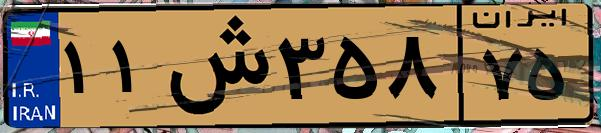1: (57, 26, 110, 100), (110, 28, 158, 98)
3: (270, 28, 330, 110)
5: (330, 28, 385, 110), (525, 38, 570, 115)
7: (475, 38, 525, 113)
8: (385, 28, 445, 110)
ش: (158, 12, 270, 120)
